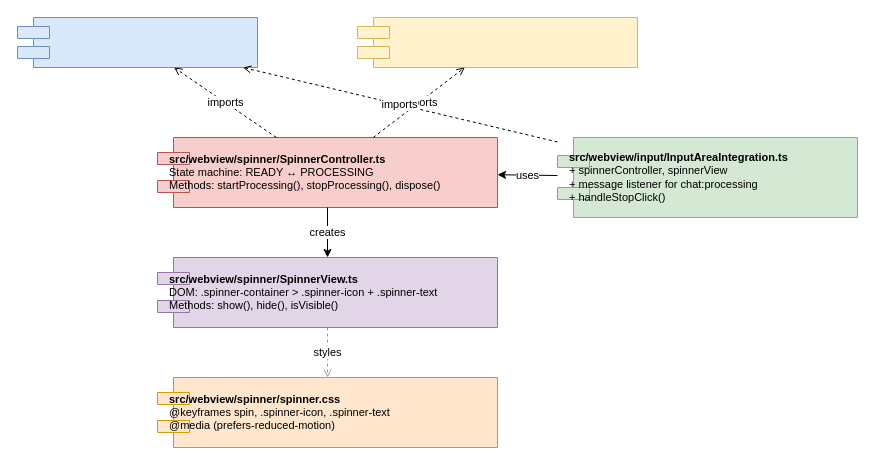
The diagram is 875 pixels wide and 465 high, and some of its shapes have lost their labels. The shapes that lost their labels are listed below. From the top down, each one's centre as x and y in pixels, then its label:
the point at 137,42: src/shared/protocol.ts + ChatProcessingSignal
the point at 497,42: src/webview/spinner/types.ts SpinnerState, SpinnerConfig, Transitions
